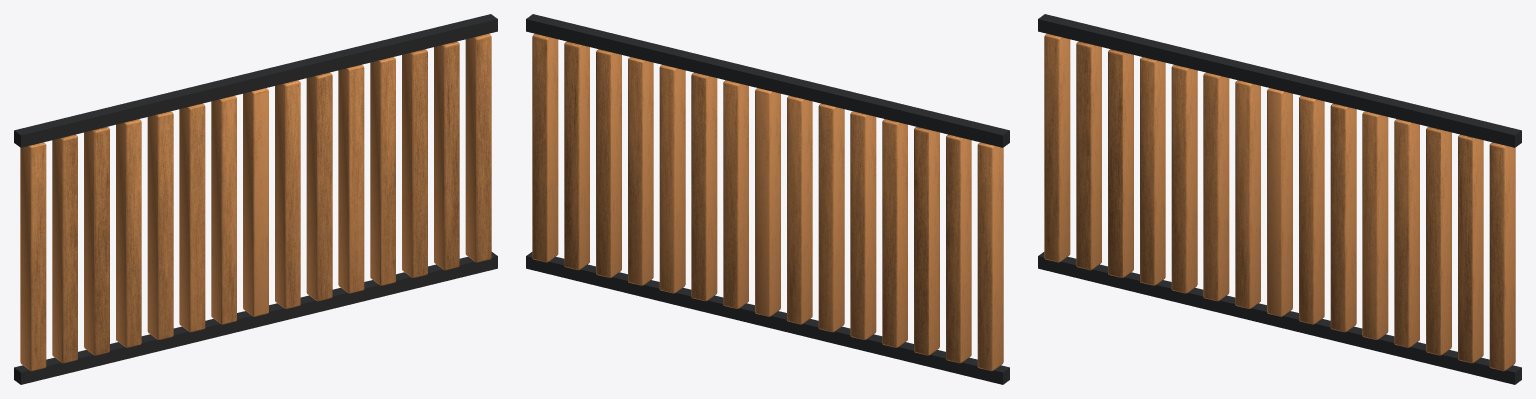
File: partition.hanging-slat-divider.glb
3 renders of one model, left to right at view 1: azimuth 30°, elevation 25°; view 2: azimuth 150°, elevation 25°; view 3: azimuth 330°, elevation 25°, orthographic.
Visible parts, largest first — view 1: partition.hanging-slat-divider.001; view 2: partition.hanging-slat-divider.001; view 3: partition.hanging-slat-divider.001.
Part boxes in pixels (x1,y1,x2,y2): partition.hanging-slat-divider.001: (14,14,497,384); partition.hanging-slat-divider.001: (526,14,1009,384); partition.hanging-slat-divider.001: (1038,14,1521,384).
Size of the model in its own units: 1.2 by 0.6 by 0.05.
2 materials, 1 textured.
